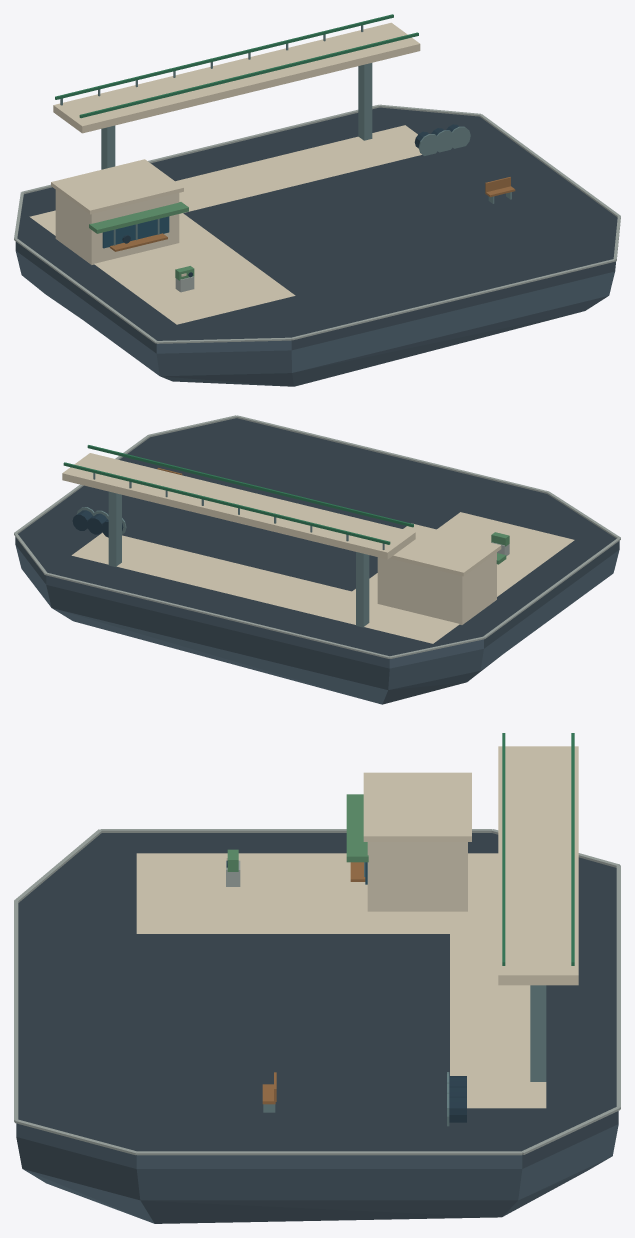
The model's file is fi03-bridge-repair.glb.
3 views of the same model, one above another, from view 1: azimuth 30°, elevation 25°; view 2: azimuth 150°, elevation 25°; view 3: azimuth 270°, elevation 25° (orthographic). The views are drawn at different scales.
Visible parts, largest first — view 1: GEO_foundation, GEO_forecourt, LAND_0_bridge, LAND_1_repair, GEO_rim, LAND_2_reels; view 2: GEO_foundation, LAND_0_bridge, GEO_forecourt, LAND_1_repair, GEO_rim, LAND_2_reels; view 3: GEO_foundation, GEO_forecourt, LAND_0_bridge, LAND_1_repair, GEO_rim, LAND_2_reels.
Part boxes in pixels (x1,y1,x2,y2): GEO_foundation: (15,107,617,386); GEO_forecourt: (29,125,421,324); LAND_0_bridge: (53,14,420,169); LAND_1_repair: (51,159,188,264); GEO_rim: (14,104,620,343); LAND_2_reels: (414,124,470,155); GEO_foundation: (15,418,619,704); LAND_0_bridge: (62,445,415,627); GEO_forecourt: (71,512,574,643); LAND_1_repair: (377,523,506,624); GEO_rim: (14,415,620,658); LAND_2_reels: (72,507,126,537); GEO_foundation: (16,833,618,1223); GEO_forecourt: (136,853,546,1108); LAND_0_bridge: (498,733,578,1081); LAND_1_repair: (346,772,471,911); GEO_rim: (14,829,620,1155); LAND_2_reels: (447,1072,466,1126).
Size of the model in its own units: 38.22 by 12.7 by 30.22.
